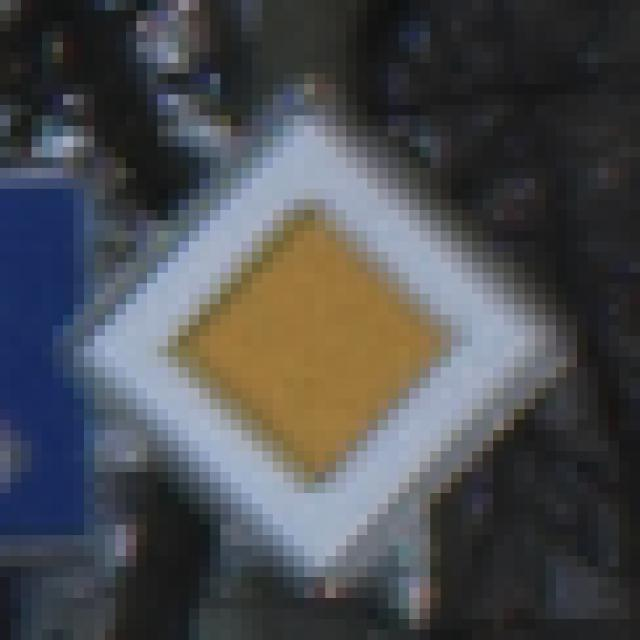Main Road: (64, 64, 588, 588)
